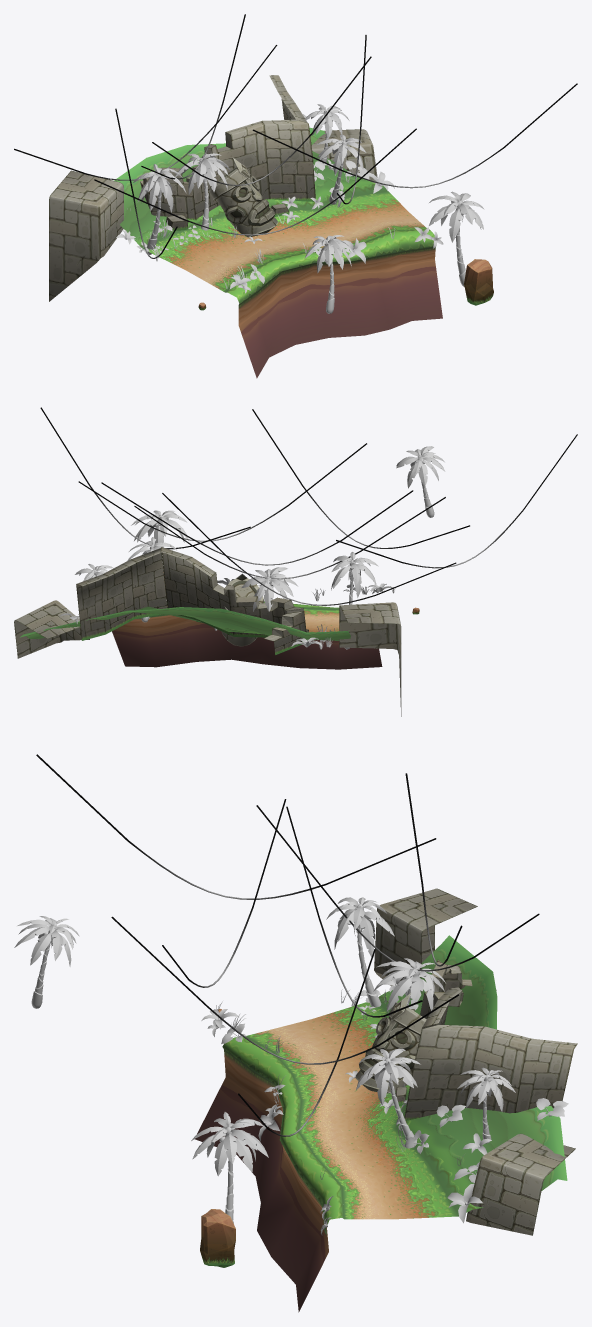
File: level.dae
3 renders of one model, top to bottom at view 1: azimuth 30°, elevation 25°; view 2: azimuth 150°, elevation 25°; view 3: azimuth 270°, elevation 25°, orthographic. The views are drawn at different scales.
Visible parts, largest first — view 1: ground_09, ground_10, temple_09, temple_08, foliage_09, foliage_10, path_09, temple_10, path_10, foliage_vines_09, rocks_10, foliage_vines_08 (+1 smaller); view 2: temple_10, temple_09, ground_09, ground_10, foliage_09, temple_08, foliage_vines_09, foliage_10, foliage_vines_08, foliage_vines_10, path_09; view 3: ground_10, temple_10, ground_09, foliage_10, foliage_09, path_09, path_10, temple_08, temple_09, foliage_vines_09, rocks_10, foliage_vines_08 (+1 smaller).
Part boxes in pixels (x1,y1,x2,y2): ground_09: (114, 143, 364, 378); ground_10: (270, 127, 442, 335); temple_09: (140, 119, 315, 237); temple_08: (49, 170, 123, 301); foliage_09: (116, 153, 366, 313); foliage_10: (281, 104, 484, 286); path_09: (186, 234, 324, 292); temple_10: (269, 75, 377, 182); path_10: (305, 212, 426, 248); foliage_vines_09: (14, 14, 371, 185); rocks_10: (464, 259, 493, 305); foliage_vines_08: (94, 108, 416, 258); temple_10: (14, 548, 167, 658); temple_09: (160, 547, 308, 654); ground_09: (181, 601, 382, 669); ground_10: (20, 603, 231, 667); foliage_09: (214, 446, 445, 649); temple_08: (339, 602, 401, 716); foliage_vines_09: (101, 482, 456, 605); foliage_10: (59, 510, 188, 623); foliage_vines_08: (252, 409, 577, 568); foliage_vines_10: (40, 407, 366, 549); path_09: (304, 609, 339, 627); ground_10: (257, 1097, 567, 1312); temple_10: (404, 1024, 577, 1235); ground_09: (195, 935, 497, 1229); foliage_10: (191, 1048, 568, 1235); foliage_09: (14, 897, 445, 1141); path_09: (245, 1019, 360, 1130); path_10: (299, 1115, 398, 1219); temple_08: (374, 888, 477, 985); temple_09: (355, 960, 496, 1116); foliage_vines_09: (256, 773, 539, 1017); rocks_10: (200, 1209, 235, 1267); foliage_vines_08: (36, 754, 436, 987).
Bounding box in the file's own units: 3567 × 2733 × 1787.
